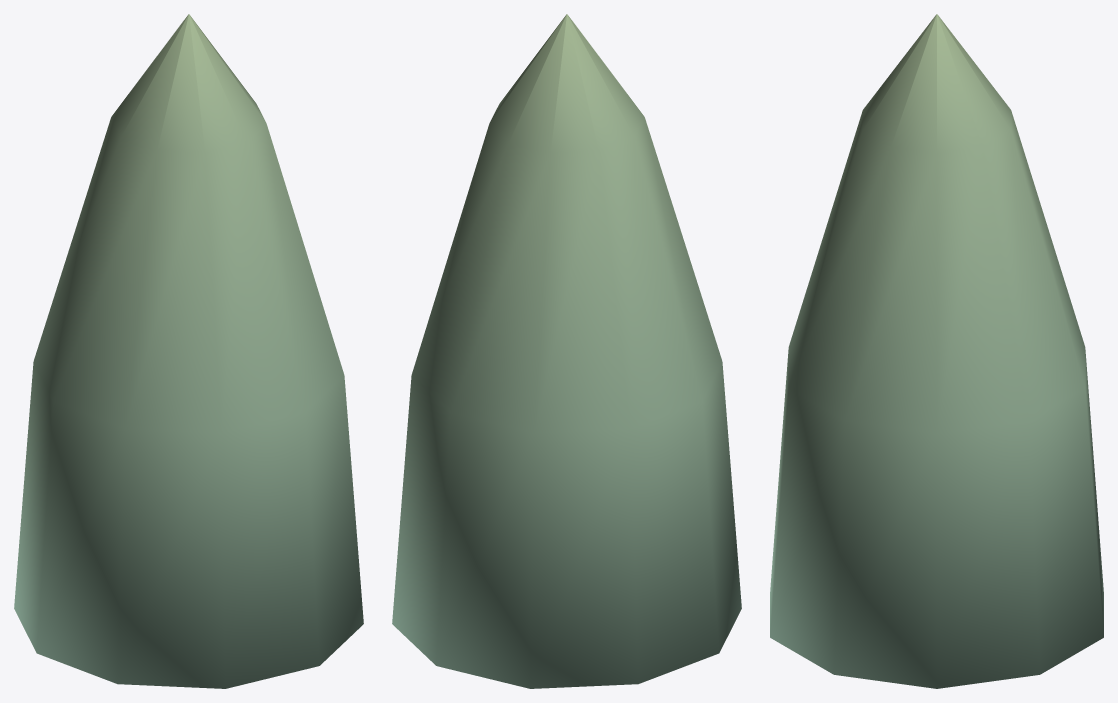
The model's file is fruit-bamboo-chilled.gltf.
The picture shows the model from 3 angles, left to right: view 1: azimuth 30°, elevation 25°; view 2: azimuth 150°, elevation 25°; view 3: azimuth 270°, elevation 25°; orthographic projection.
Size of the model in its own units: 0.225 by 0.425 by 0.214.
